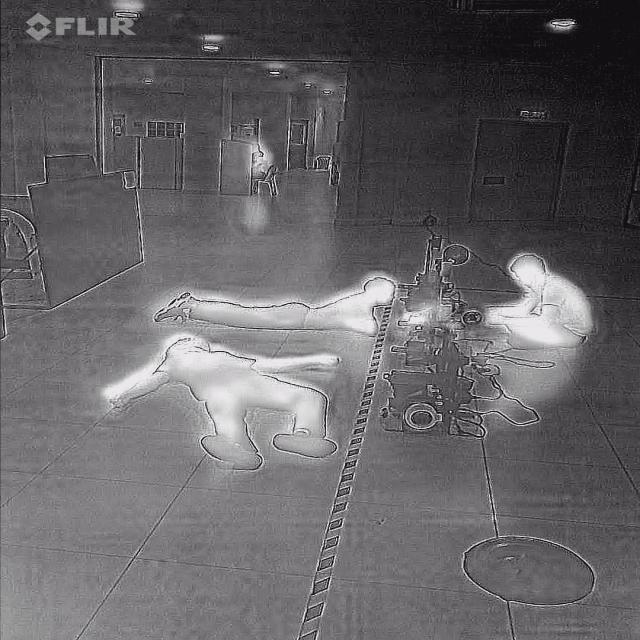Victim: (98, 329, 356, 474), (146, 269, 403, 340), (476, 250, 614, 353)
